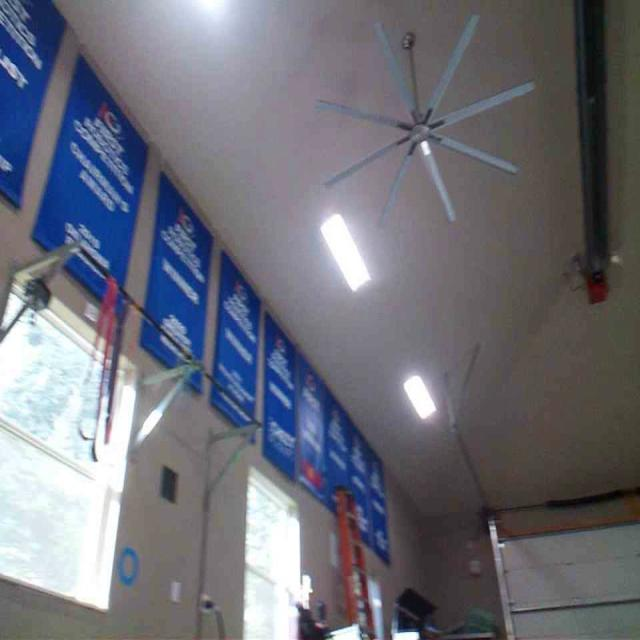ring_blue: (116, 547, 140, 584)
square_black: (158, 466, 179, 501)
